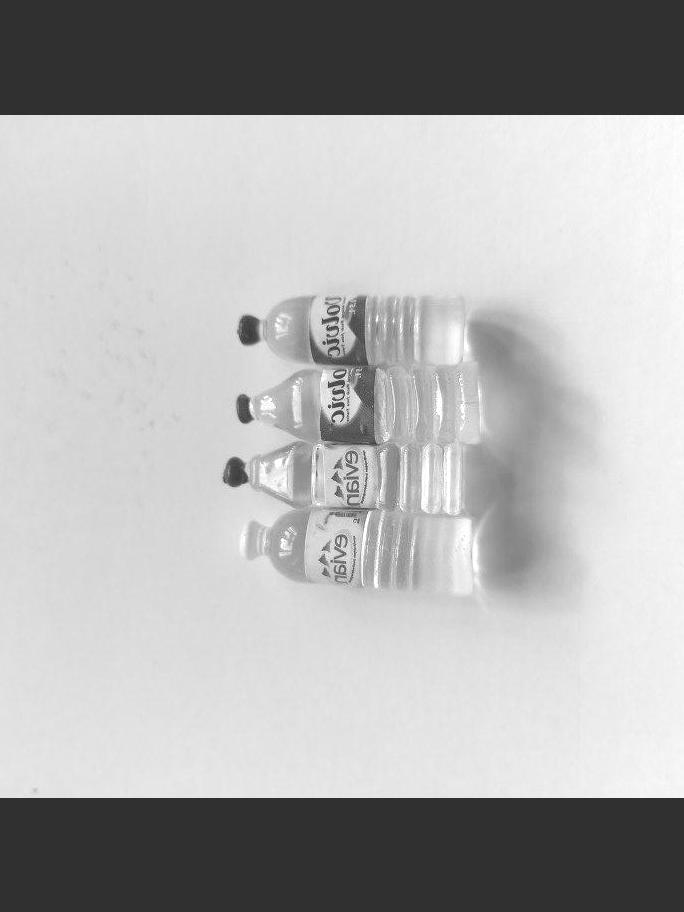bottle: (230, 358, 495, 453), (238, 505, 482, 604), (218, 430, 472, 516), (232, 285, 476, 372)
